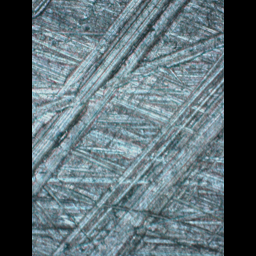d: (51, 49, 224, 255), (32, 0, 188, 198)
